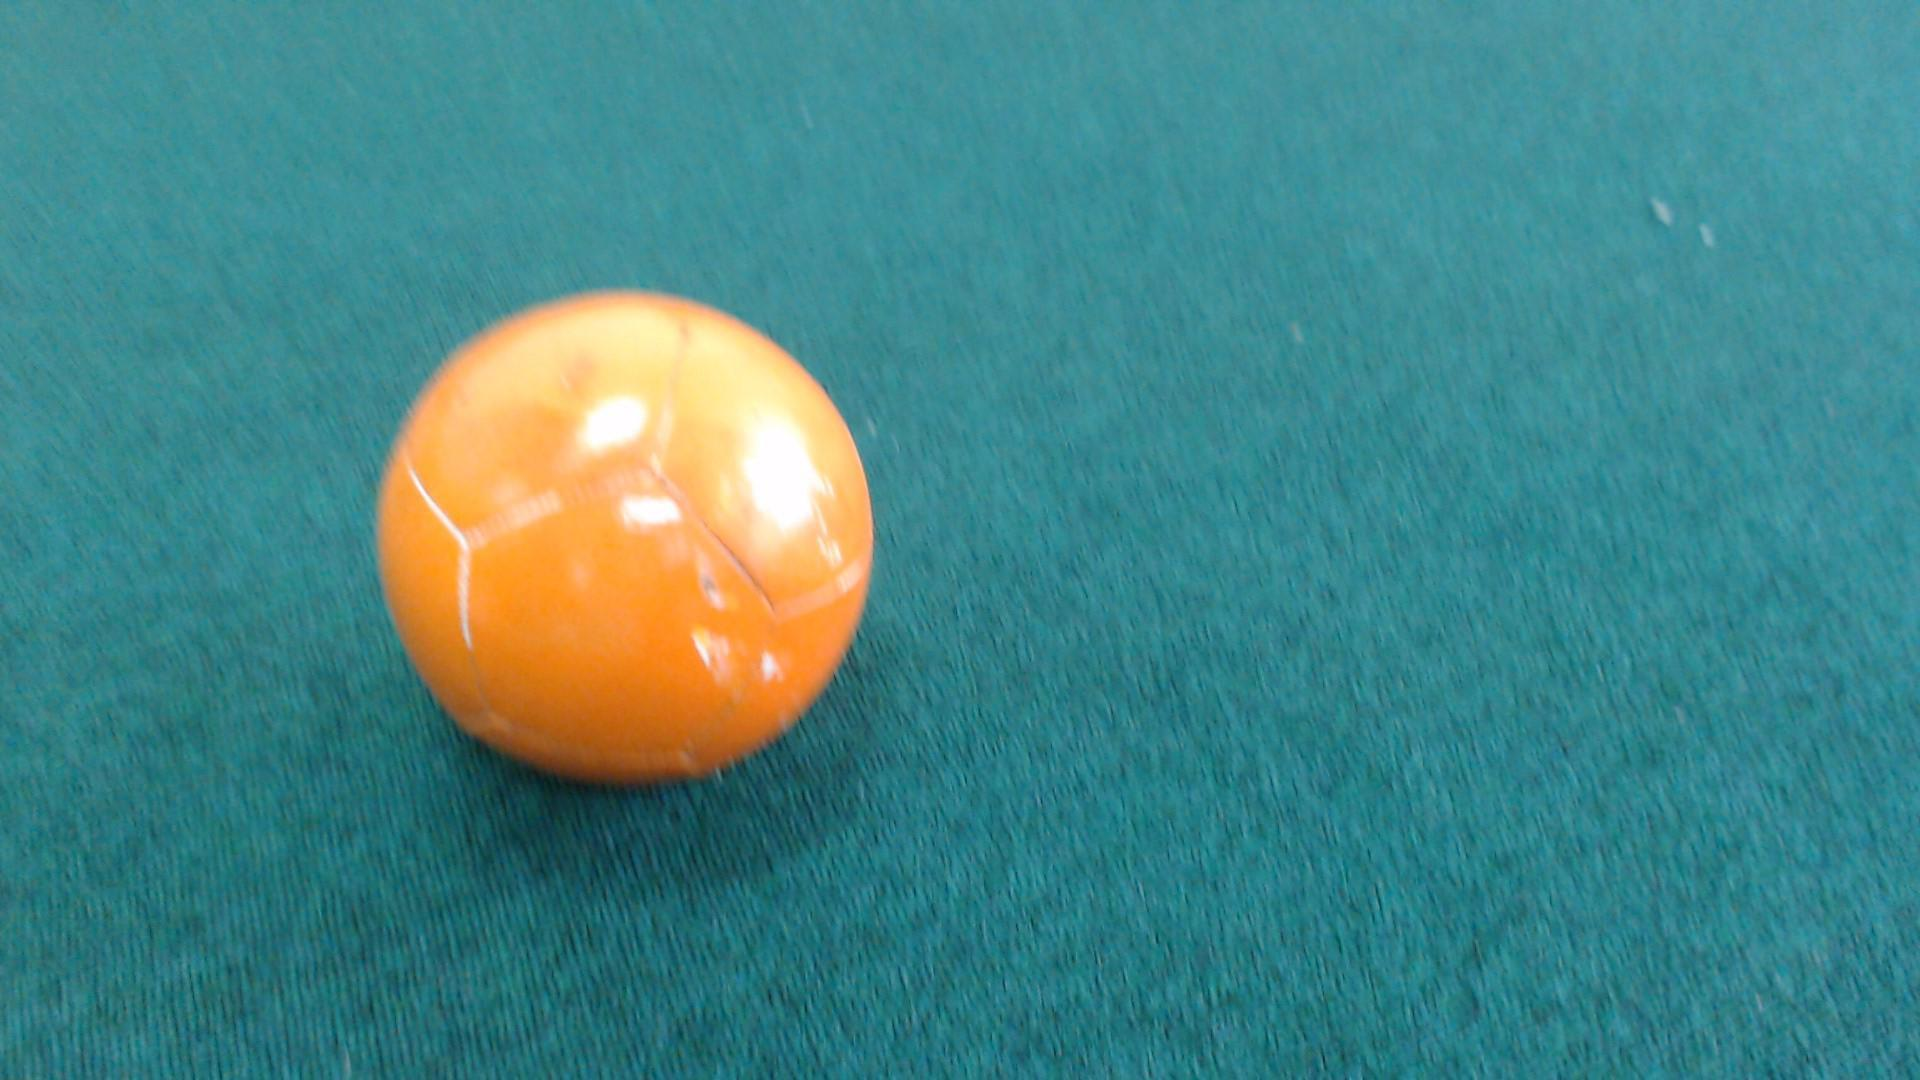bola: (364, 286, 898, 812)
